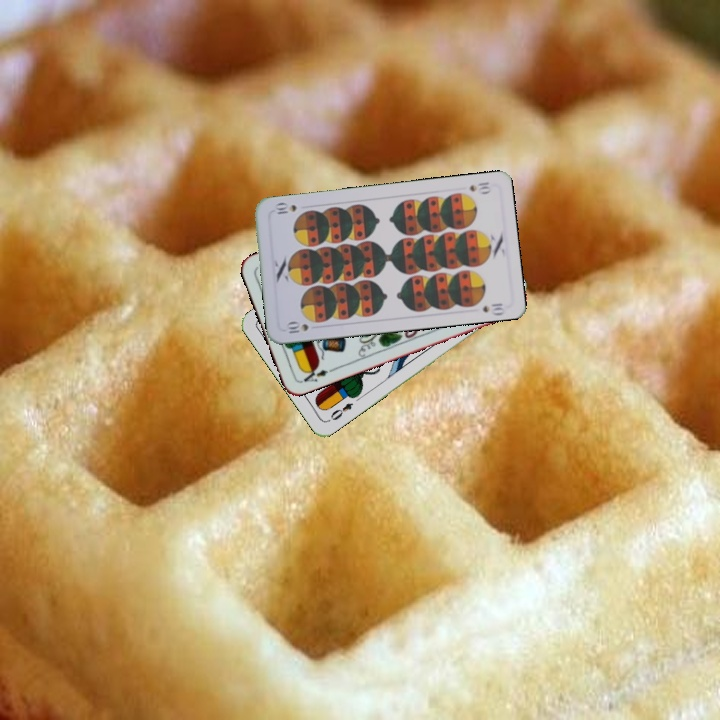EA: (297, 363, 336, 385)
EO: (326, 399, 356, 423)
S10: (283, 318, 311, 336), (465, 178, 493, 196)
